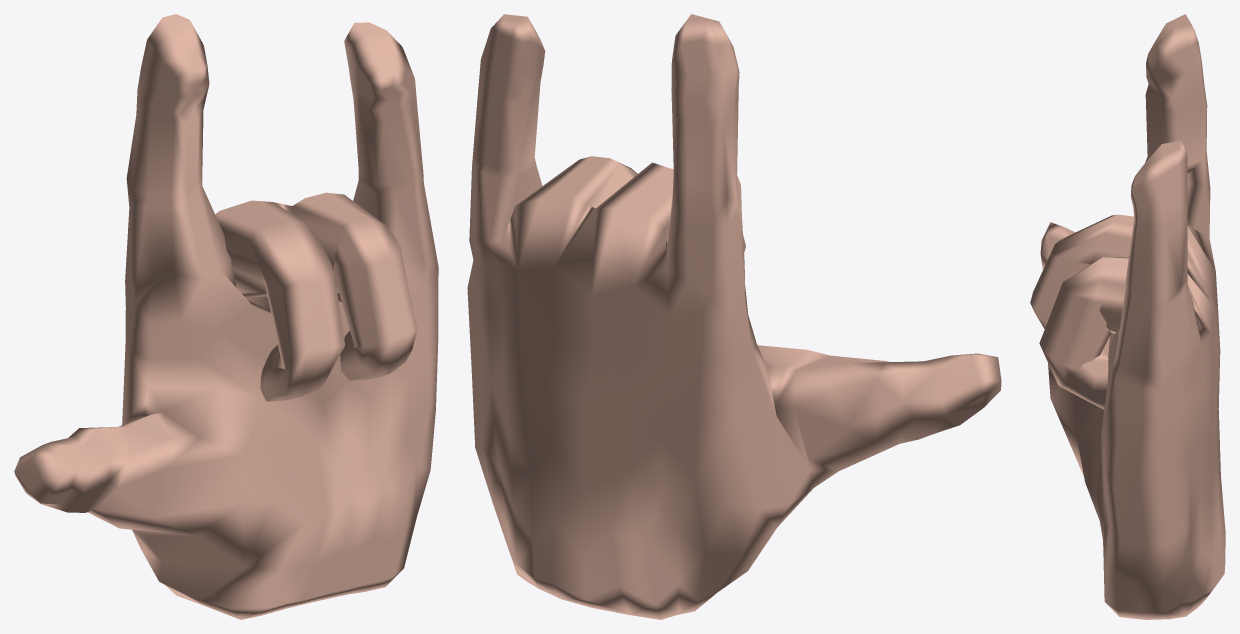
The model's file is MAO_I_LOVE_YOU.obj.
3 renders of one model, left to right at view 1: azimuth 30°, elevation 25°; view 2: azimuth 150°, elevation 25°; view 3: azimuth 270°, elevation 25°, orthographic. The views are drawn at different scales.
Parts seen in each view (by area): view 1: mao_dir polySurface1; view 2: mao_dir polySurface1; view 3: mao_dir polySurface1.
Boxes of the visible parts, x1,y1,x2,y2 form: mao_dir polySurface1: [14, 14, 438, 619]; mao_dir polySurface1: [467, 14, 1001, 619]; mao_dir polySurface1: [1030, 14, 1225, 619].
Bounding box in the file's own units: 188 × 227 × 76.9.
